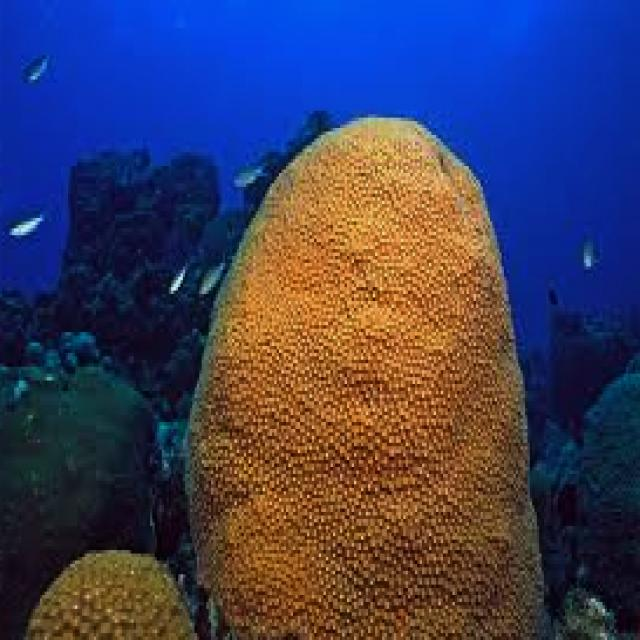Coral: (190, 114, 546, 640), (24, 546, 202, 640)
